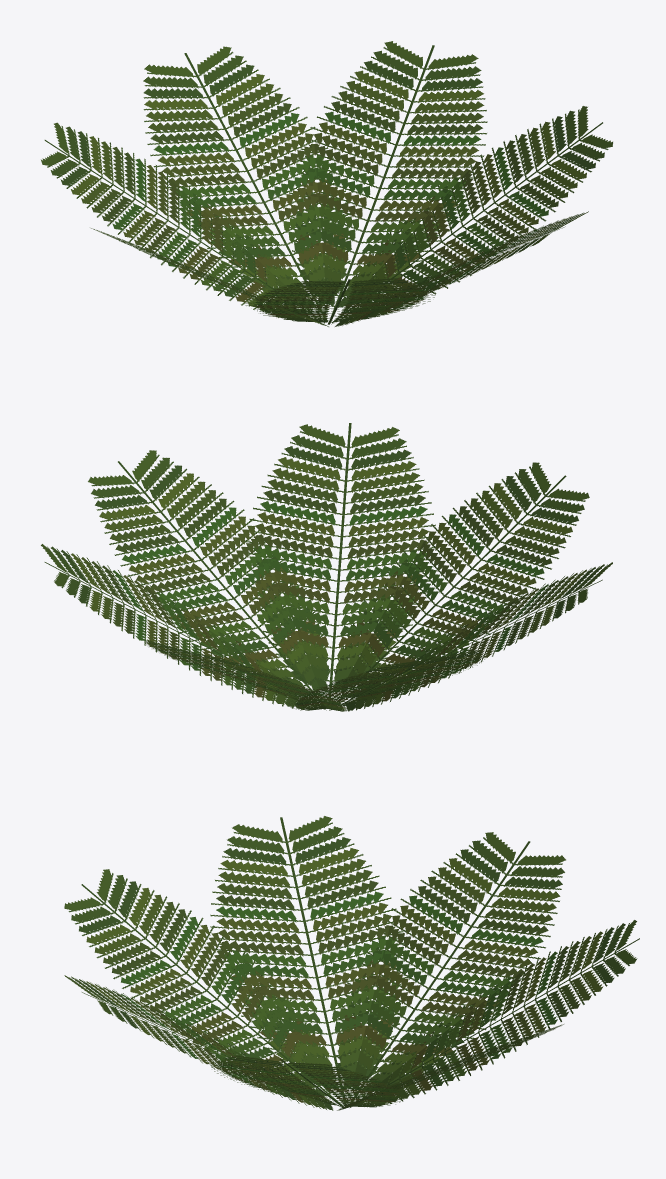
File: Fern.fbx
3 views of the same model, one above another, from view 1: azimuth 30°, elevation 25°; view 2: azimuth 150°, elevation 25°; view 3: azimuth 270°, elevation 25° (orthographic). The views are drawn at different scales.
Parts seen in each view (by area): view 1: Fern; view 2: Fern; view 3: Fern.
Part boxes in pixels (left/top/right/bottom): Fern: left=41, top=41, right=612, bottom=326; Fern: left=41, top=423, right=612, bottom=711; Fern: left=64, top=816, right=639, bottom=1110.
Size of the model in its own units: 162 by 48.63 by 158.
